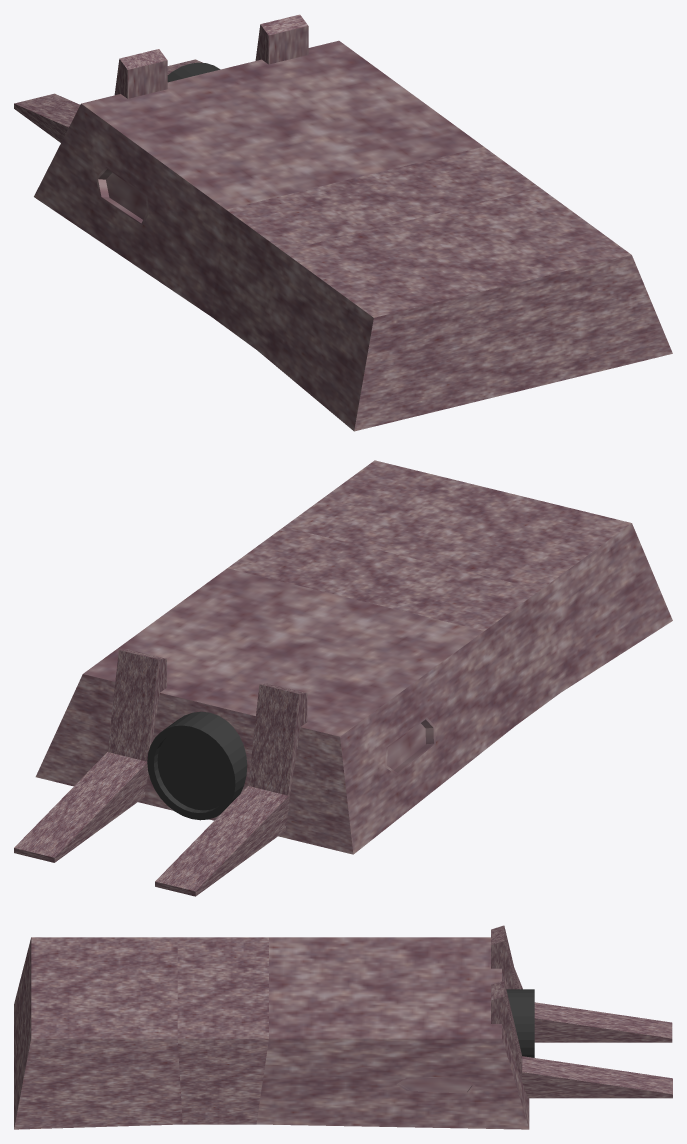
The model's file is bunker.glb.
The picture shows the model from 3 angles, top to bottom: view 1: azimuth 30°, elevation 25°; view 2: azimuth 150°, elevation 25°; view 3: azimuth 270°, elevation 25°; orthographic projection. The views are drawn at different scales.
Visible parts, largest first — view 1: Cube.002, Cube, Cube.001, Cube.004; view 2: Cube.002, Cylinder, Cube.003, Cube.004, Cube.001, Cube; view 3: Cube.002, Cube.003, Cube.004, Cylinder, Cube, Cube.001.
Boxes of the visible parts, x1,y1,x2,y2 form: Cube.002: (34,40,672,431); Cube: (255,14,308,64); Cube.001: (114,49,167,98); Cube.004: (14,93,79,142); Cube.002: (35,460,672,854); Cylinder: (147,711,247,820); Cube.003: (14,752,148,862); Cube.004: (155,786,289,896); Cube.001: (248,683,307,798); Cube: (107,649,166,761); Cube.002: (14,937,529,1129); Cube.003: (522,1056,672,1098); Cube.004: (534,1002,672,1042); Cylinder: (506,989,534,1057); Cube: (491,981,522,1080); Cube.001: (491,925,519,989).
Bounding box in the file's own units: 63.03 × 25.19 × 140.
2 materials, 1 textured.
